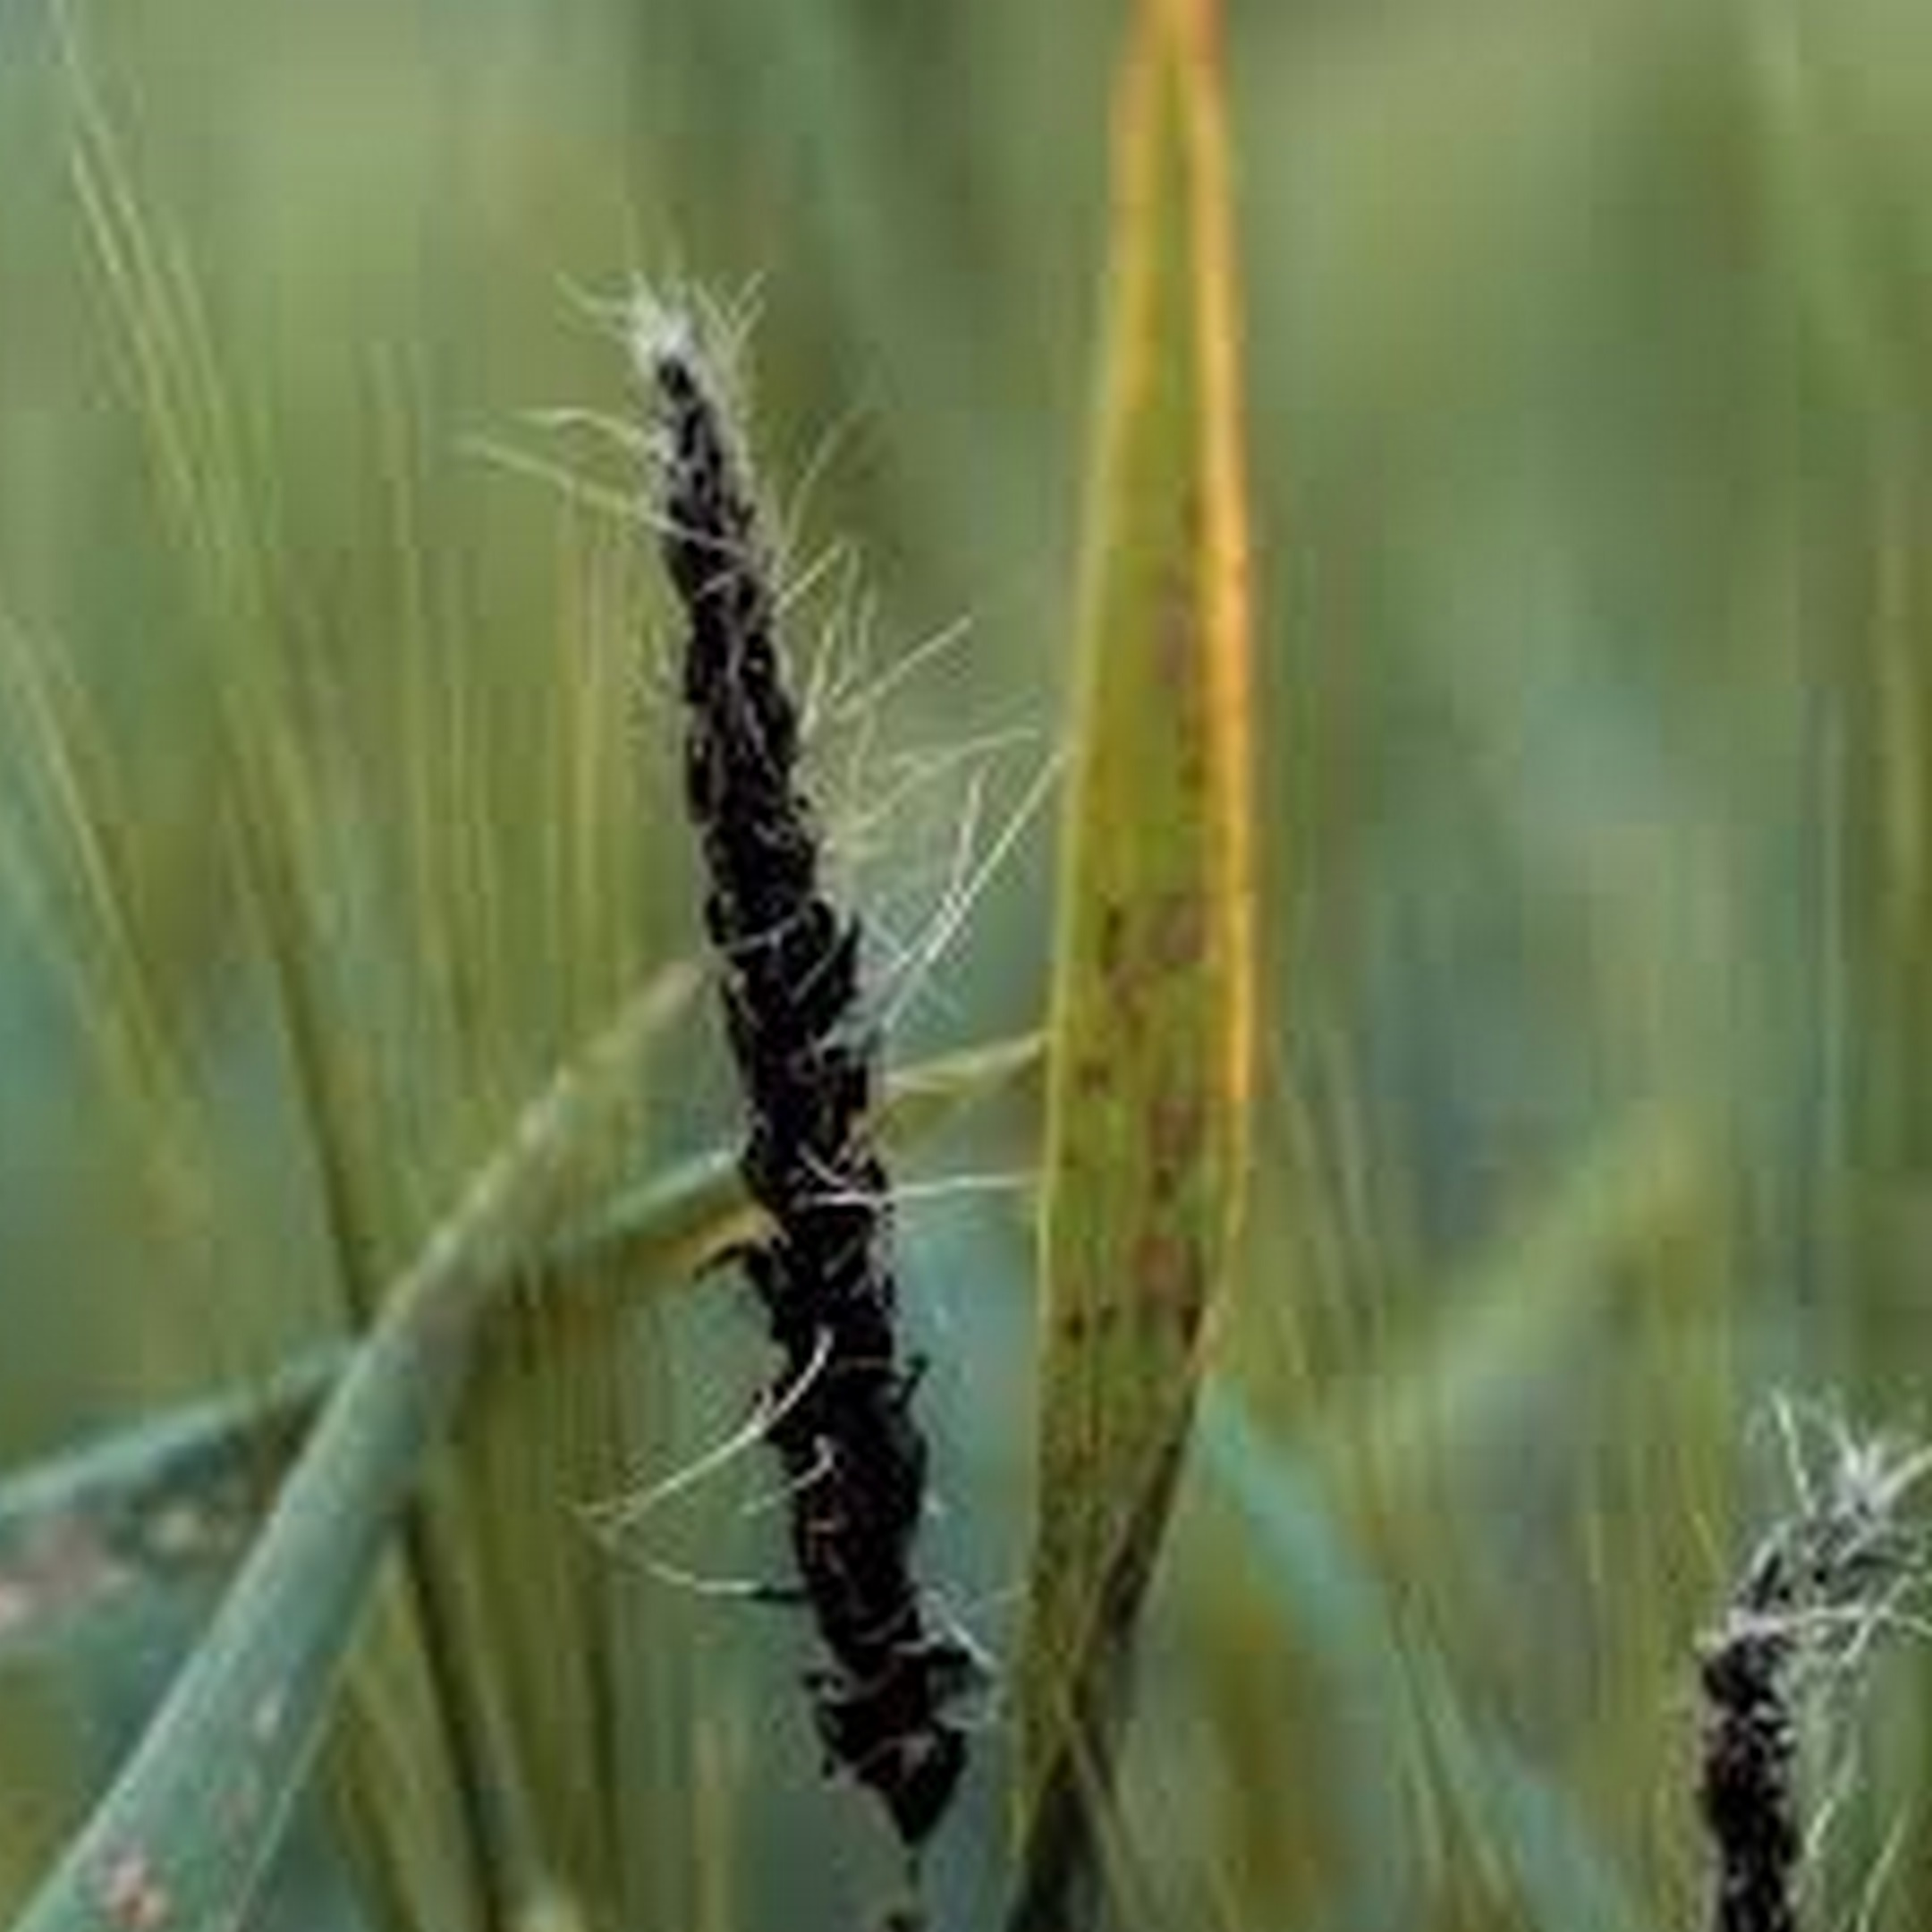Wheat Loose Smut: (603, 366, 1012, 1785)
